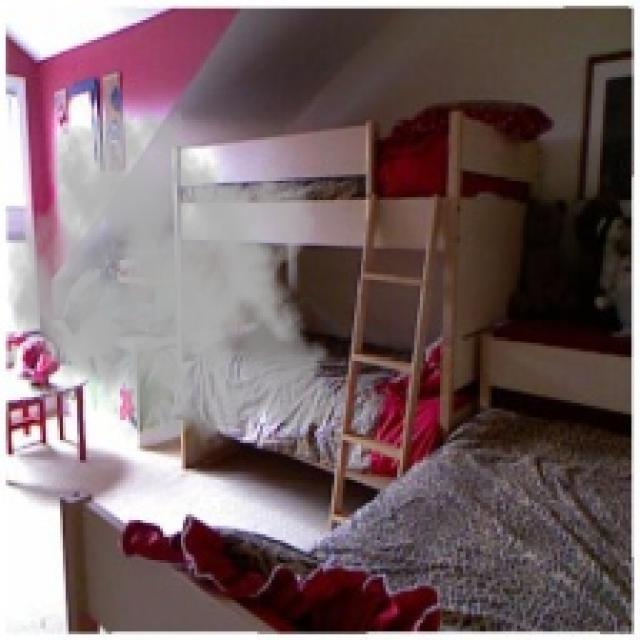smoke: (6, 94, 351, 452)
